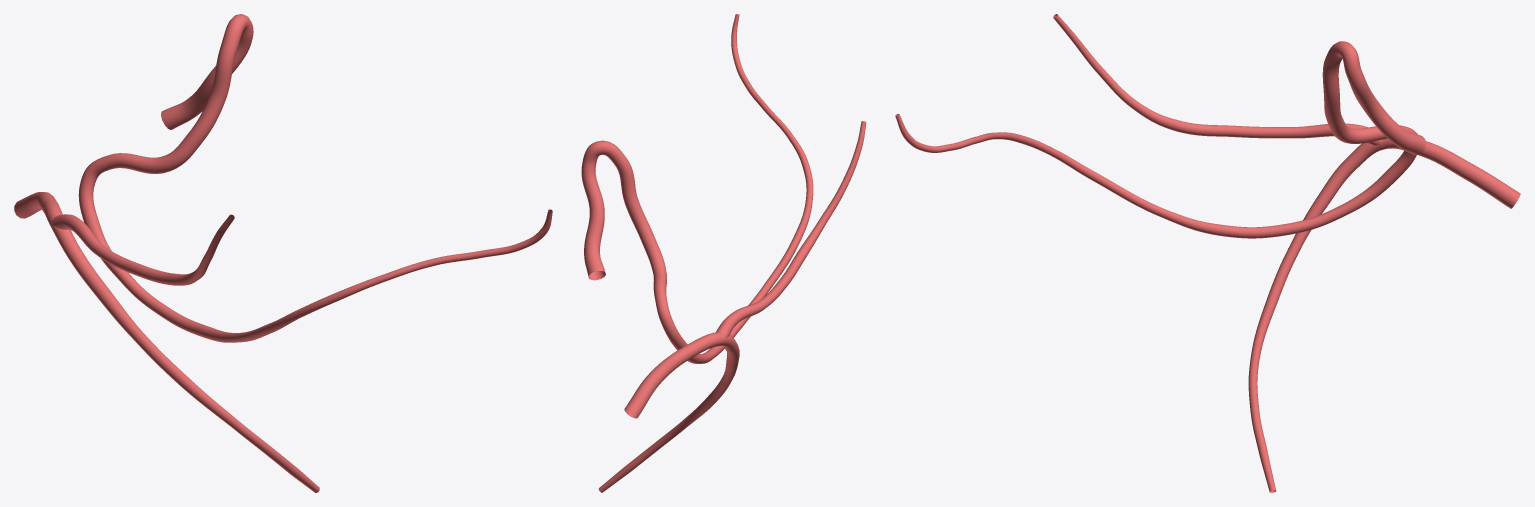
Rendered from Lateral_frontobasal_artery.r_BezierCurve.231.glb.
The picture shows the model from 3 angles, left to right: view 1: azimuth 30°, elevation 25°; view 2: azimuth 150°, elevation 25°; view 3: azimuth 270°, elevation 25°; orthographic projection. The views are drawn at different scales.
Visible parts, largest first — view 1: Lateral_frontobasal_artery.r_BezierCurve.231; view 2: Lateral_frontobasal_artery.r_BezierCurve.231; view 3: Lateral_frontobasal_artery.r_BezierCurve.231.
Part boxes in pixels (x1,y1,x2,y2): Lateral_frontobasal_artery.r_BezierCurve.231: [14, 14, 552, 492]; Lateral_frontobasal_artery.r_BezierCurve.231: [581, 14, 866, 492]; Lateral_frontobasal_artery.r_BezierCurve.231: [895, 14, 1520, 492].
Size of the model in its own units: 0.0236 by 0.0418 by 0.0547.
